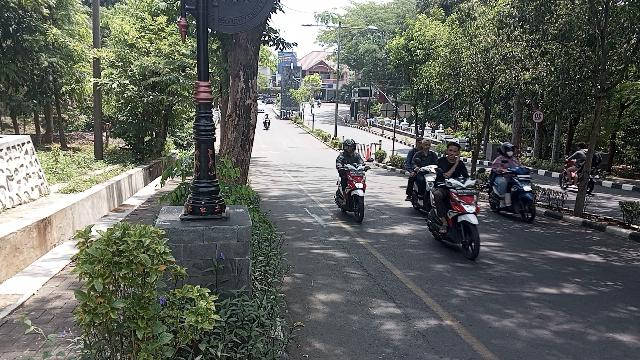helm: (502, 143, 517, 158), (344, 140, 356, 154)
motor: (428, 178, 485, 260), (489, 169, 538, 224), (336, 164, 372, 223), (412, 167, 439, 211)
non-helm: (448, 143, 462, 161), (423, 141, 432, 152), (418, 138, 425, 149)
